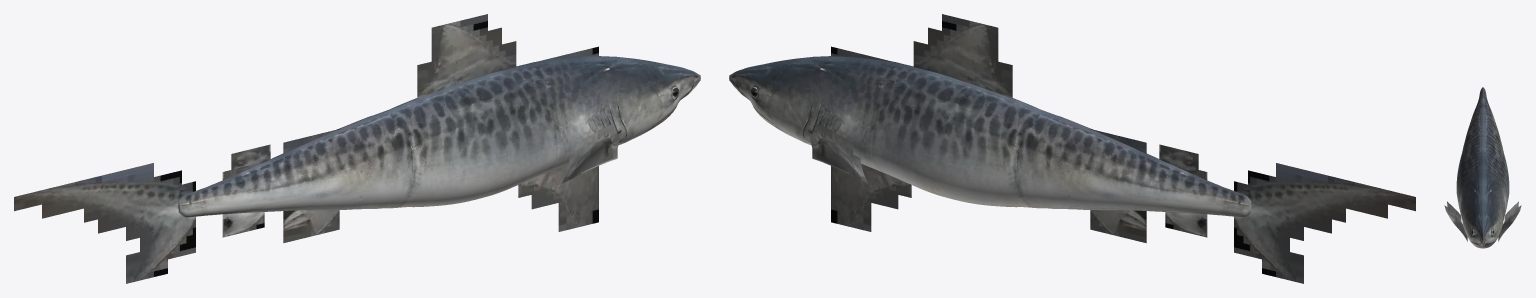
File: real-galeocerdo_cuvier.glb
3 renders of one model, left to right at view 1: azimuth 30°, elevation 25°; view 2: azimuth 150°, elevation 25°; view 3: azimuth 270°, elevation 25°, orthographic. The views are drawn at different scales.
Visible parts, largest first — view 1: galeocerdo_cuvier; view 2: galeocerdo_cuvier; view 3: galeocerdo_cuvier.
Boxes of the visible parts, left/top/right/bottom form: galeocerdo_cuvier: left=14, top=14, right=700, bottom=283; galeocerdo_cuvier: left=729, top=14, right=1415, bottom=283; galeocerdo_cuvier: left=1444, top=87, right=1521, bottom=248.
Bounding box in the file's own units: 5.01 × 1.64 × 0.8197.
Materials: 1 (1 with a texture image).
